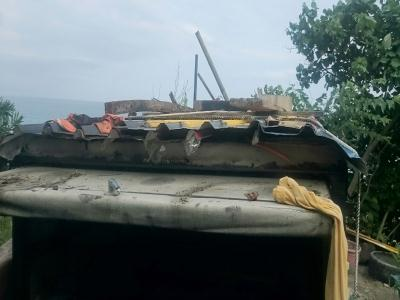plastic_bag: (273, 173, 341, 215)
